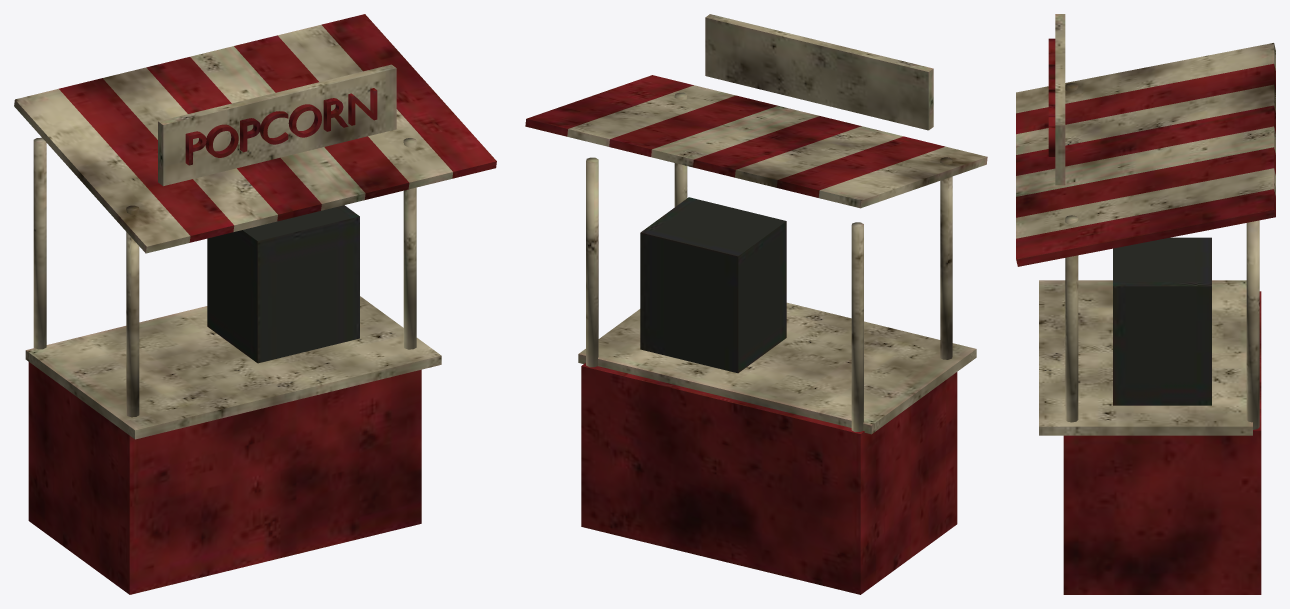
Rendered from popcorn.glb.
3 renders of one model, left to right at view 1: azimuth 30°, elevation 25°; view 2: azimuth 150°, elevation 25°; view 3: azimuth 270°, elevation 25°, orthographic. The views are drawn at different scales.
Visible parts, largest first — view 1: Main; view 2: Main; view 3: Main.
Boxes of the visible parts, x1,y1,x2,y2 form: Main: (14, 14, 496, 594); Main: (525, 14, 987, 594); Main: (1016, 14, 1275, 594).
Bounding box in the file's own units: 2.4 × 3.05 × 1.58.
Materials: 1 (1 with a texture image).
